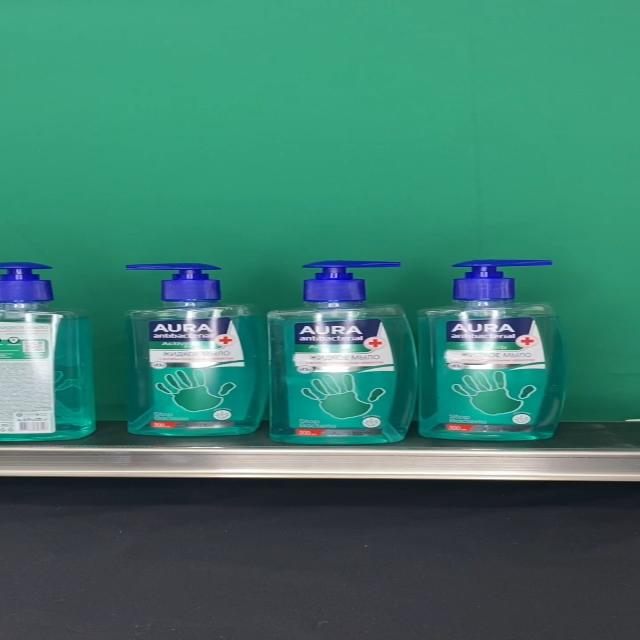Bottle: (267, 260, 417, 445), (417, 259, 568, 441), (125, 263, 268, 436), (0, 260, 97, 441)
Cap: (451, 259, 552, 303), (302, 261, 404, 303), (127, 263, 222, 301), (0, 261, 53, 301)
